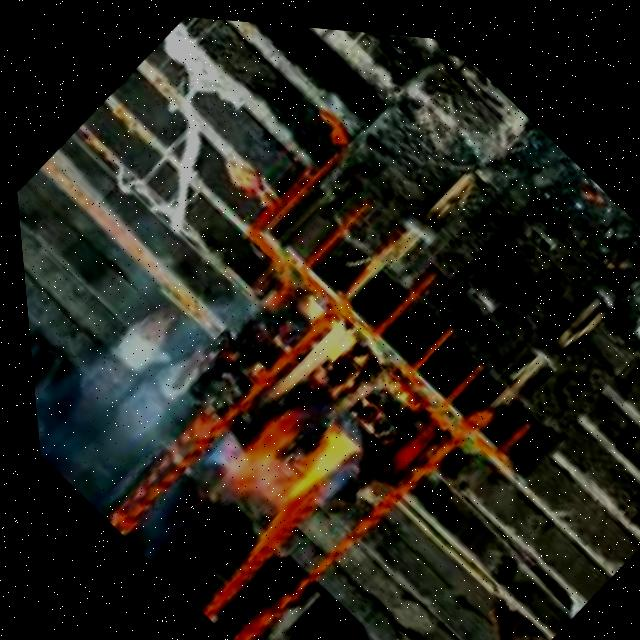Fire: (174, 292, 420, 541)
